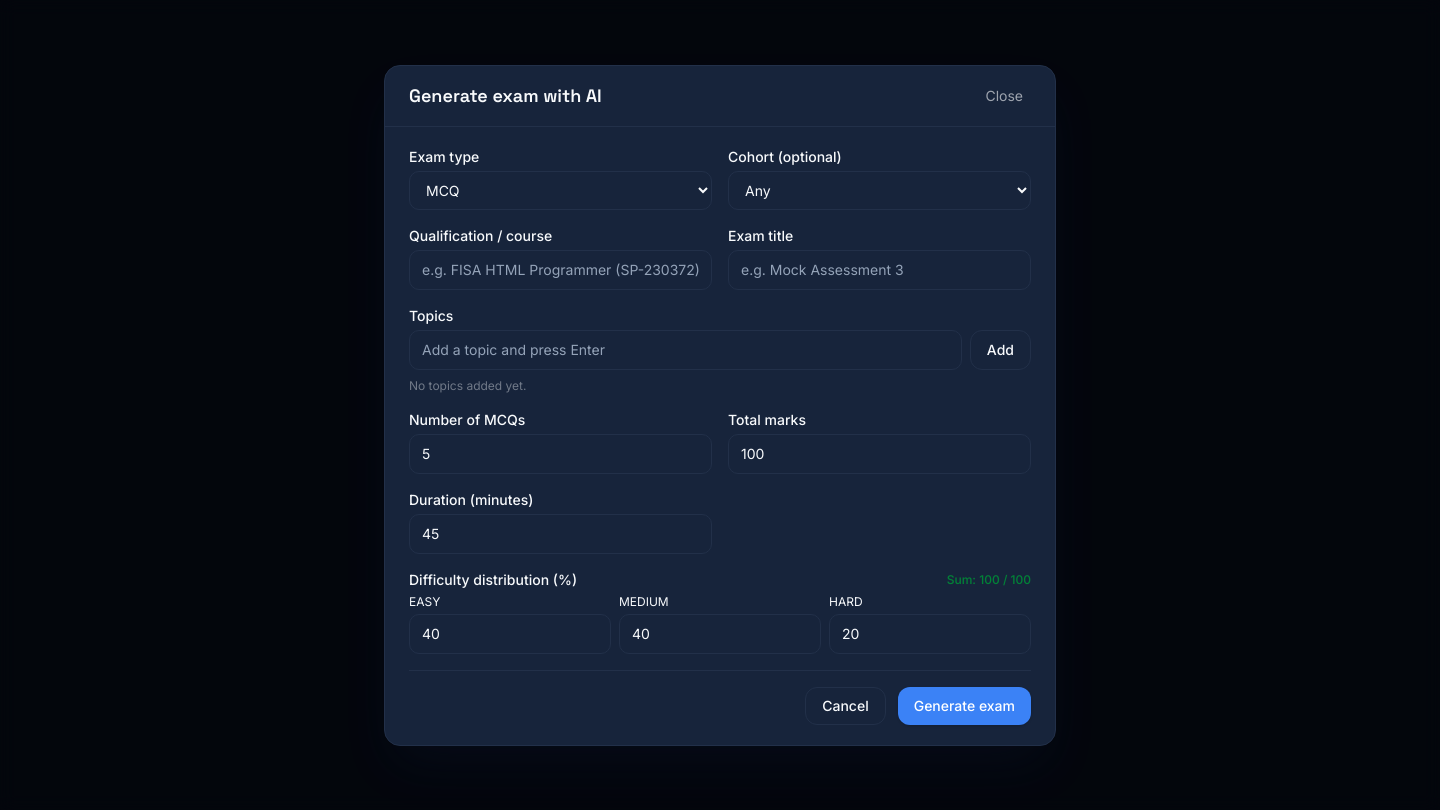
Test: GenerateExamModal — form validation › requires at least one topic before submitting
Type "Some qualification" into the field with placeholder "e.g. FISA HTML Programmer (SP-230372)" at (560, 270), box [409,250,712,290]
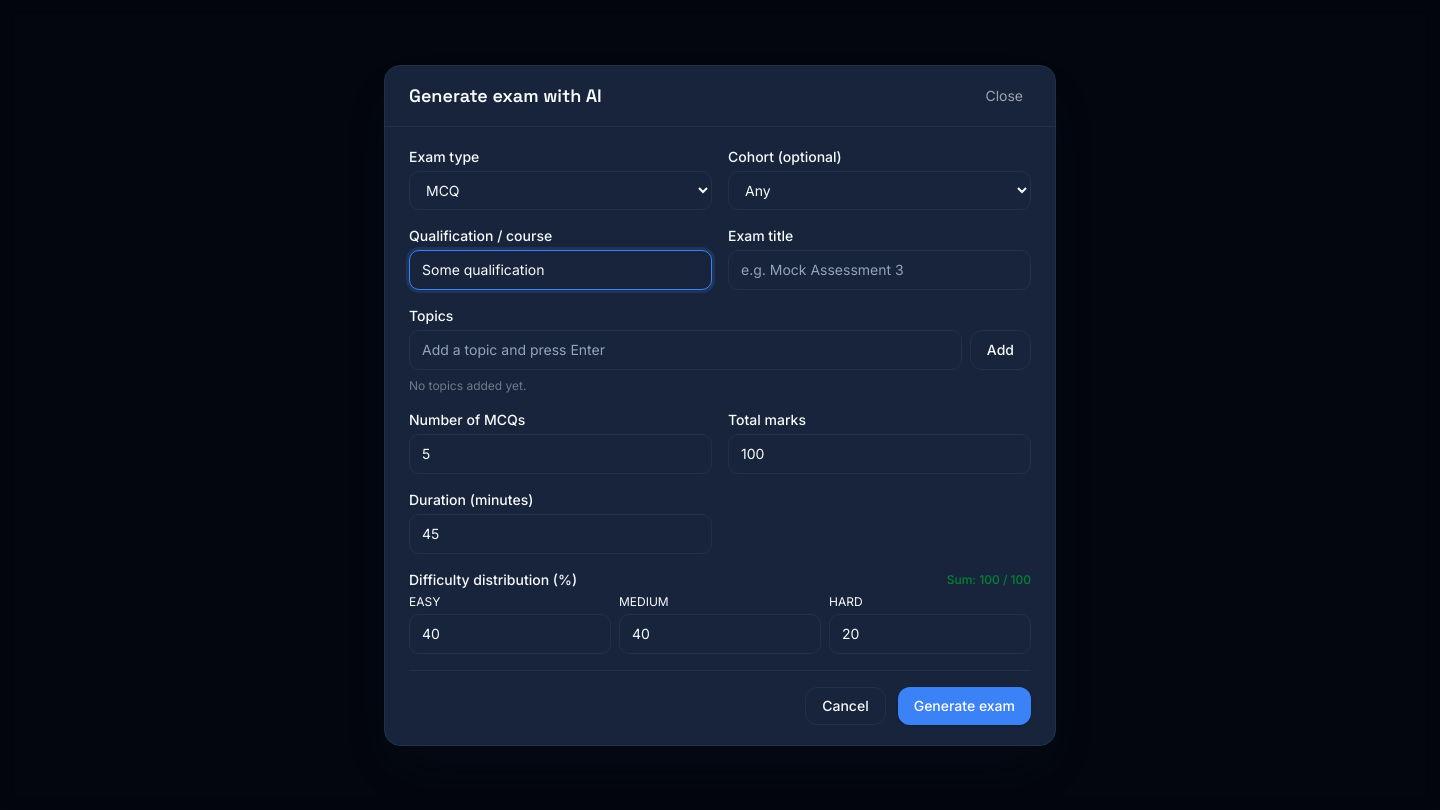
Type "Some title" into the field with placeholder "e.g. Mock Assessment 3" at (880, 270), box [728,250,1031,290]
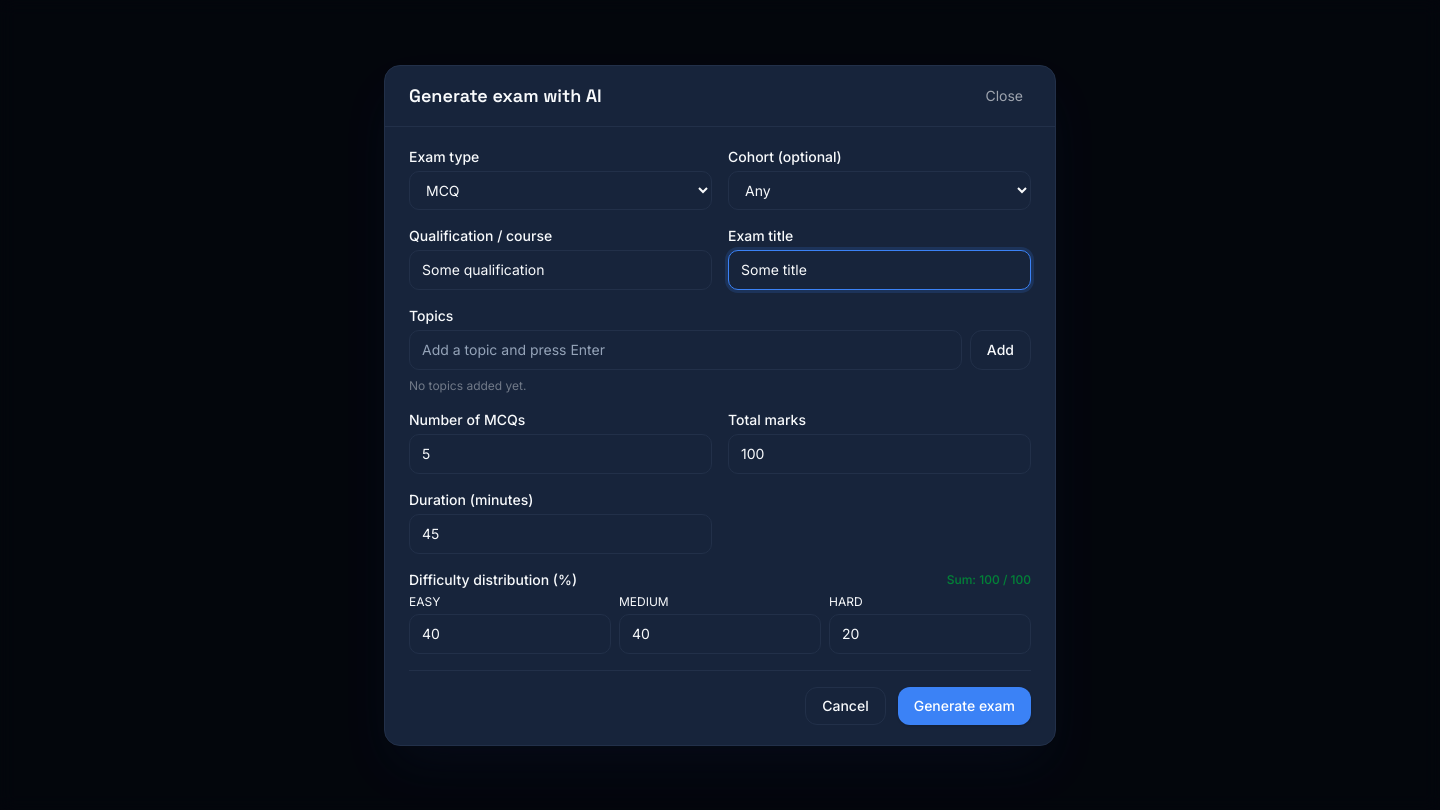
Click the button "Generate exam" at (964, 706), box [898,686,1031,724]
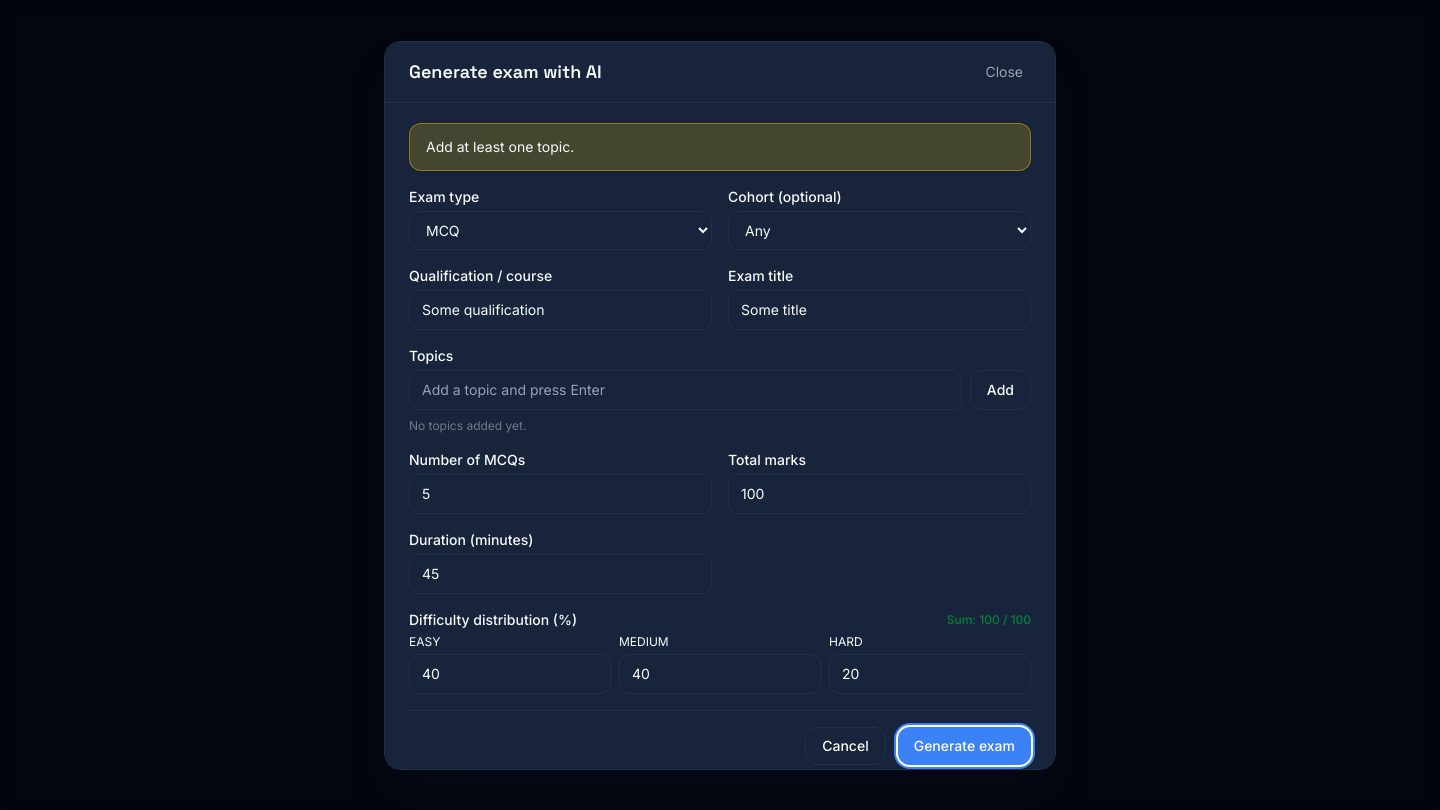
Check: the text "Add at least one topic." is shown, box [409,122,1031,171]
